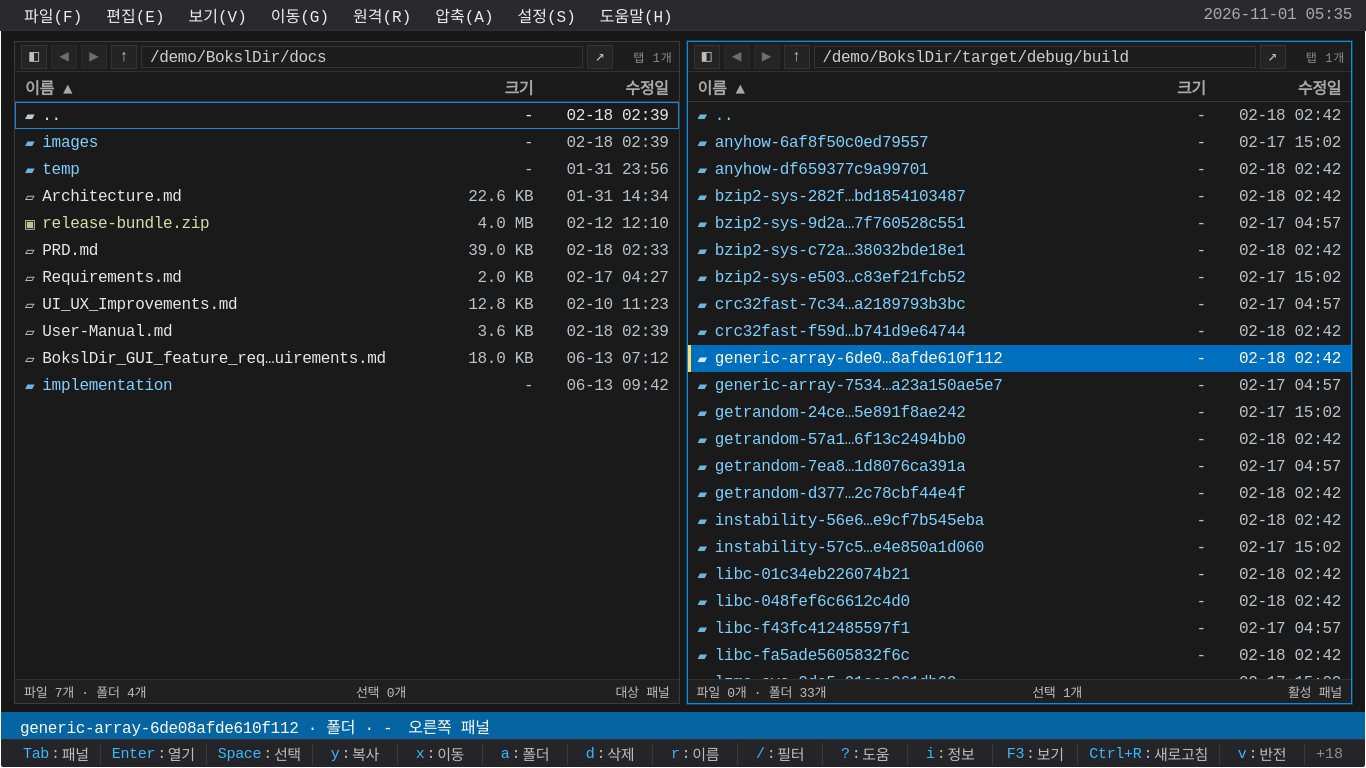
Test: opens from the file menu and runs through the common operation store with cancellation
This screenshot has width=1366, height=768.
Step 1. Click the button "파일(F)" → x=53, y=15, box [14, 0, 92, 31]
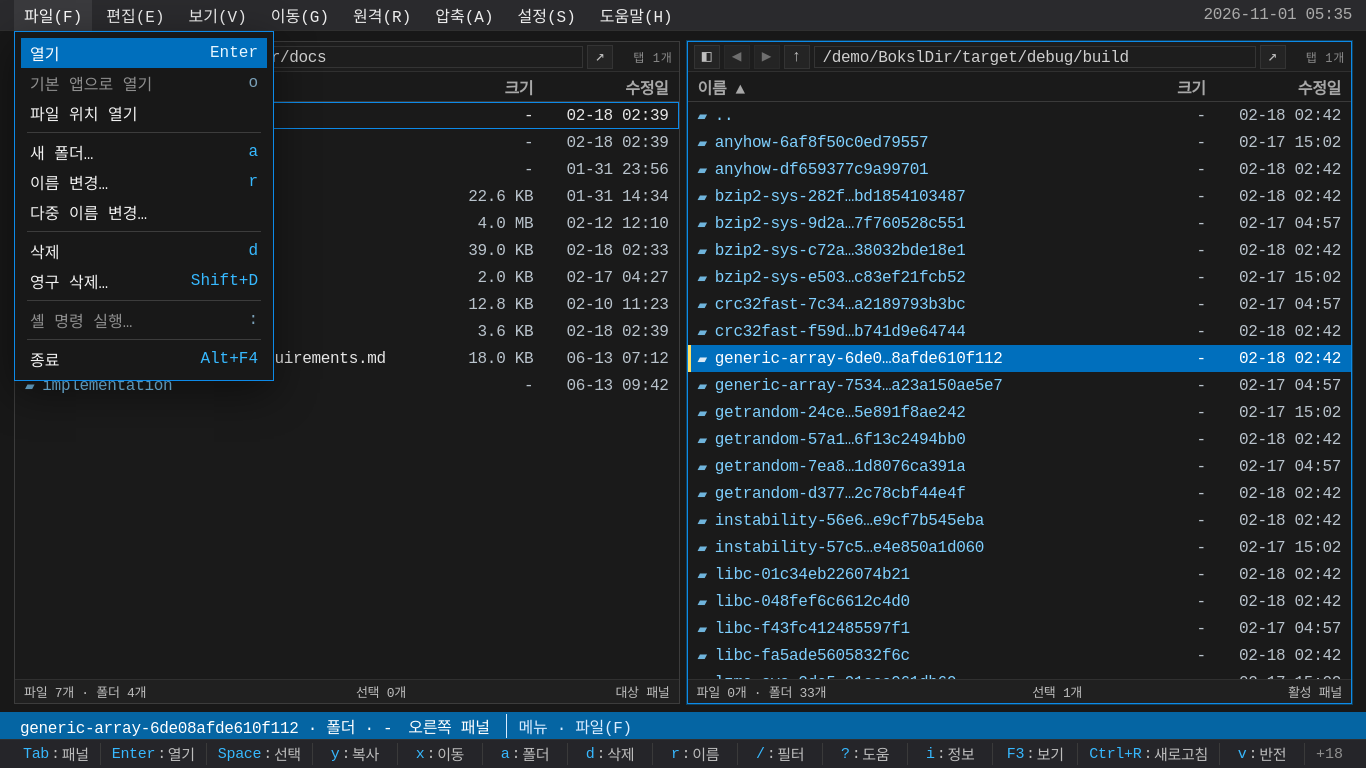
Step 2. Click the menu item "다중 이름 변경…" → x=144, y=212, box [21, 197, 267, 227]
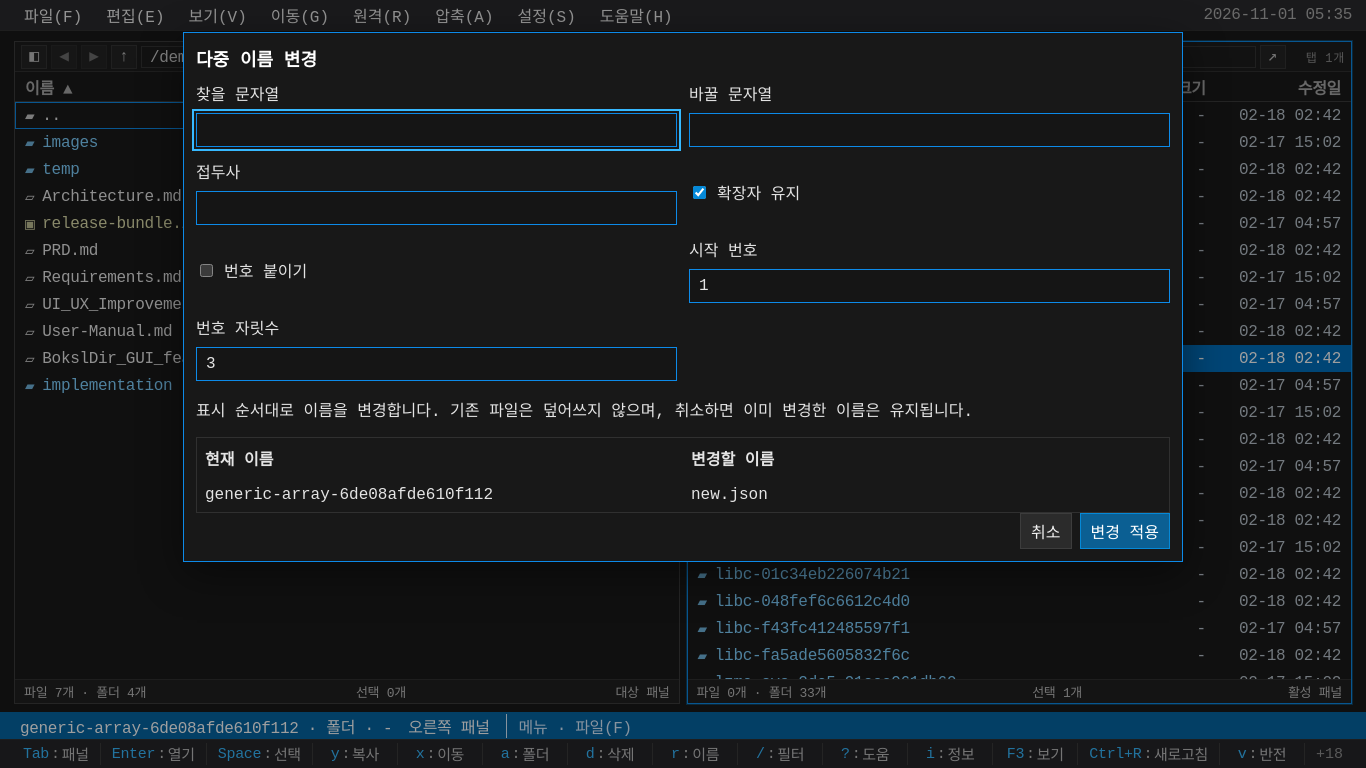
Check: the button "변경 적용" is enabled
Step 3. Click the button "변경 적용" → x=1125, y=531, box [1080, 513, 1170, 549]
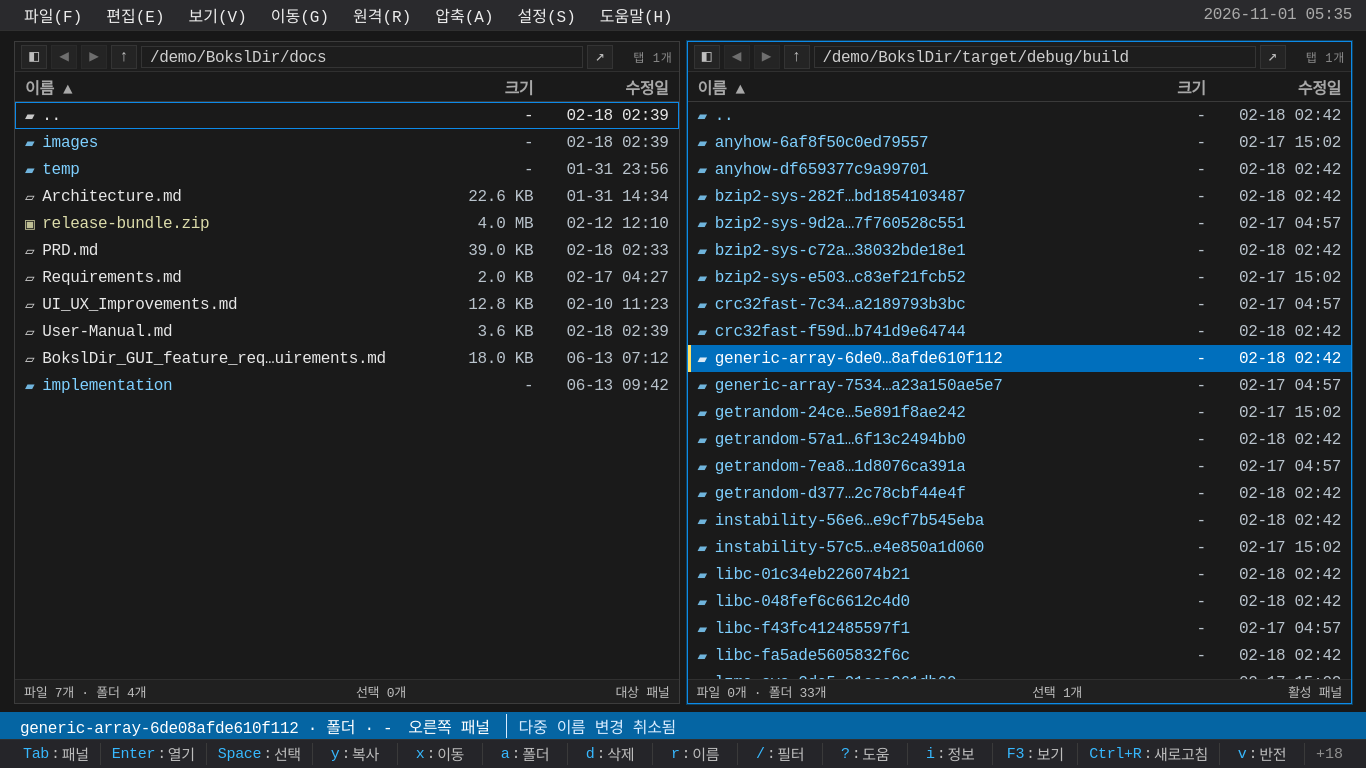
Check: the text "다중 이름 변경 취소됨" is shown, box [506, 714, 1346, 738]
